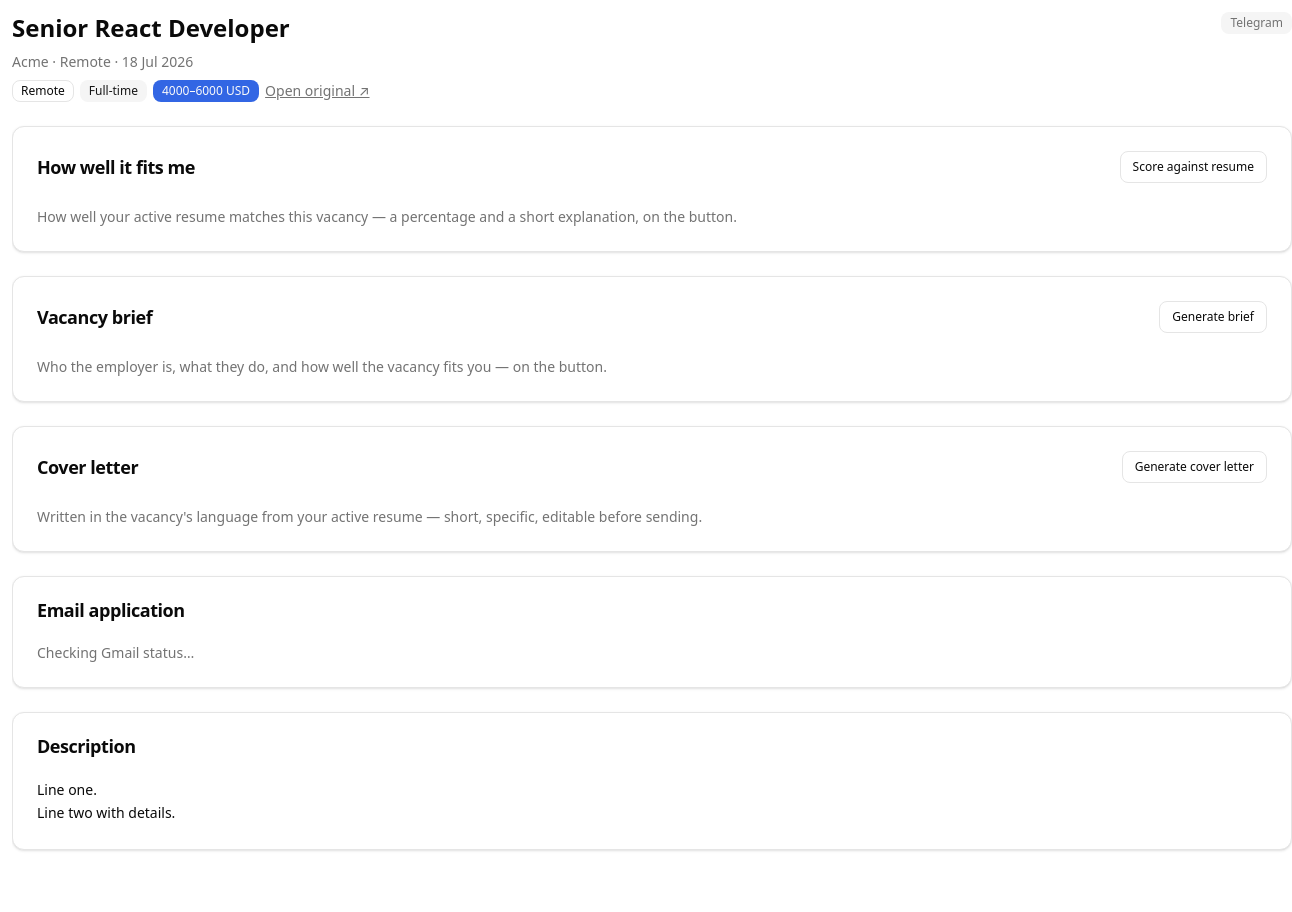
Test: VacancyDetailView › scores the vacancy against the resume on click
The image size is (1292, 912).
Step 1. Click the button "Score against resume" → (1193, 167), box [1120,151,1267,183]
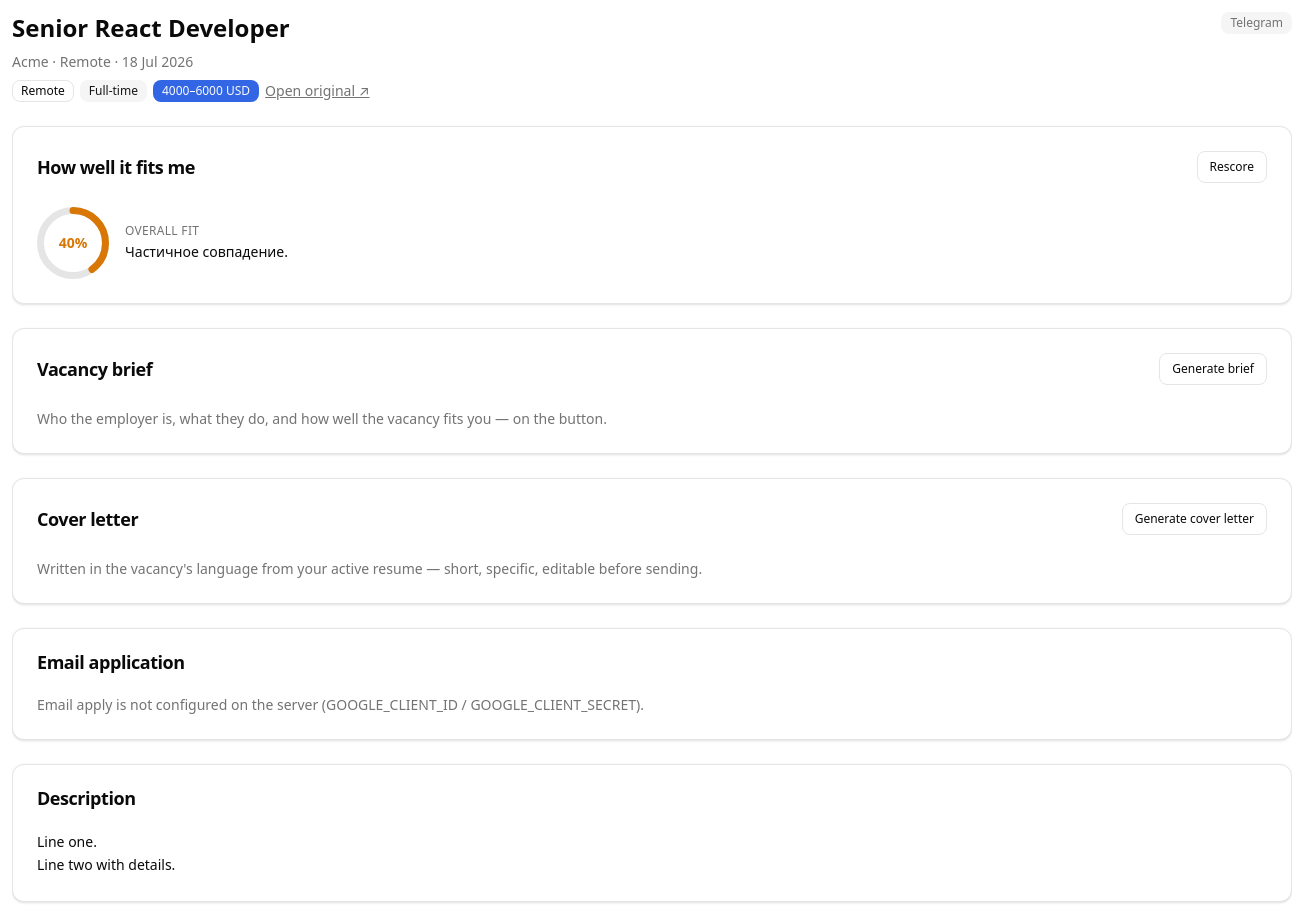
Now the text "40%" is shown, box [59,233,87,253]
Now the text "Частичное совпадение." is shown, box [125,242,288,261]
